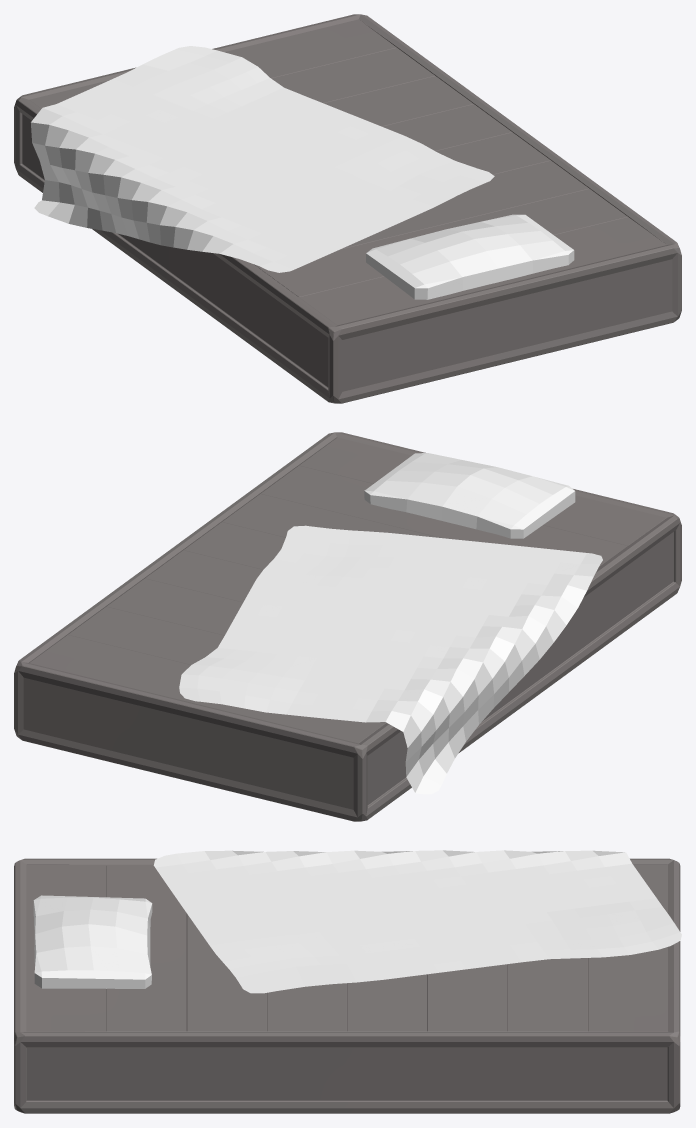
The model's file is Mattress.fbx.
The picture shows the model from 3 angles, top to bottom: view 1: azimuth 30°, elevation 25°; view 2: azimuth 150°, elevation 25°; view 3: azimuth 270°, elevation 25°; orthographic projection. The views are drawn at different scales.
Parts seen in each view (by area): view 1: Plane.003; view 2: Plane.003; view 3: Plane.003.
Boxes of the visible parts, x1,y1,x2,y2 form: Plane.003: (14, 14, 681, 403); Plane.003: (14, 432, 681, 821); Plane.003: (14, 850, 681, 1113).
Size of the model in its own units: 155 by 39.08 by 230.
